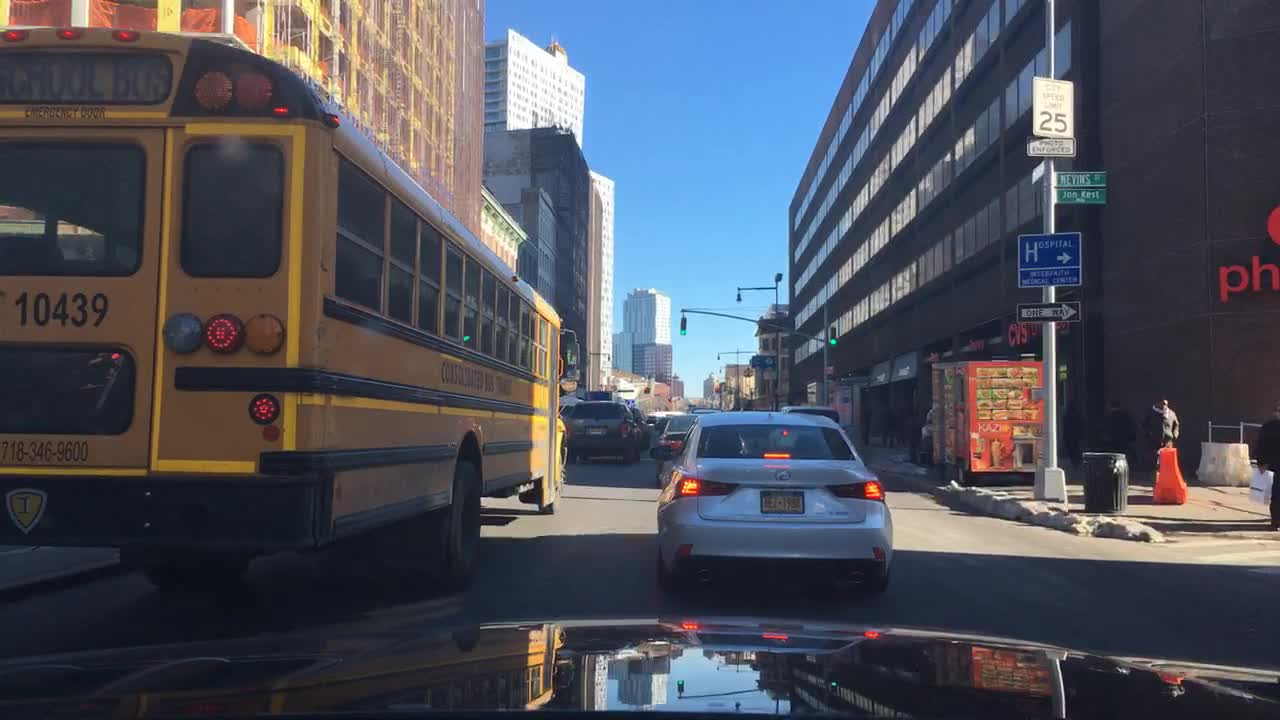bus: (0, 24, 584, 586)
car: (656, 408, 891, 591), (567, 399, 641, 462), (653, 409, 695, 463), (779, 405, 842, 425), (630, 405, 647, 440), (684, 406, 716, 417), (645, 414, 659, 436), (555, 402, 570, 422)
person: (1257, 408, 1280, 529), (1145, 399, 1178, 466), (1098, 399, 1134, 460), (1063, 402, 1088, 469)
traffic light: (679, 316, 687, 334), (830, 325, 834, 345), (716, 380, 719, 396)
traffic sign: (1017, 230, 1082, 288), (1035, 76, 1072, 136), (1055, 171, 1108, 205), (1017, 302, 1082, 322), (1028, 135, 1077, 156), (750, 353, 776, 368)
